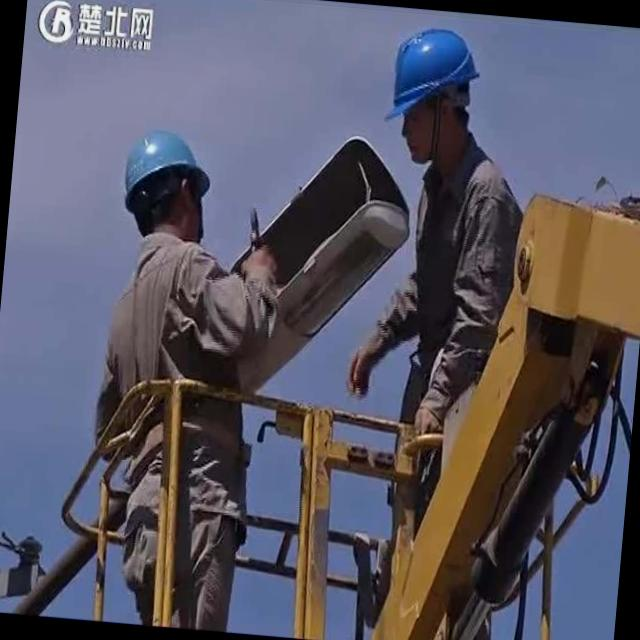helmet: (376, 15, 486, 142), (115, 125, 218, 224)
no-vest: (91, 223, 252, 506), (392, 138, 526, 392)
